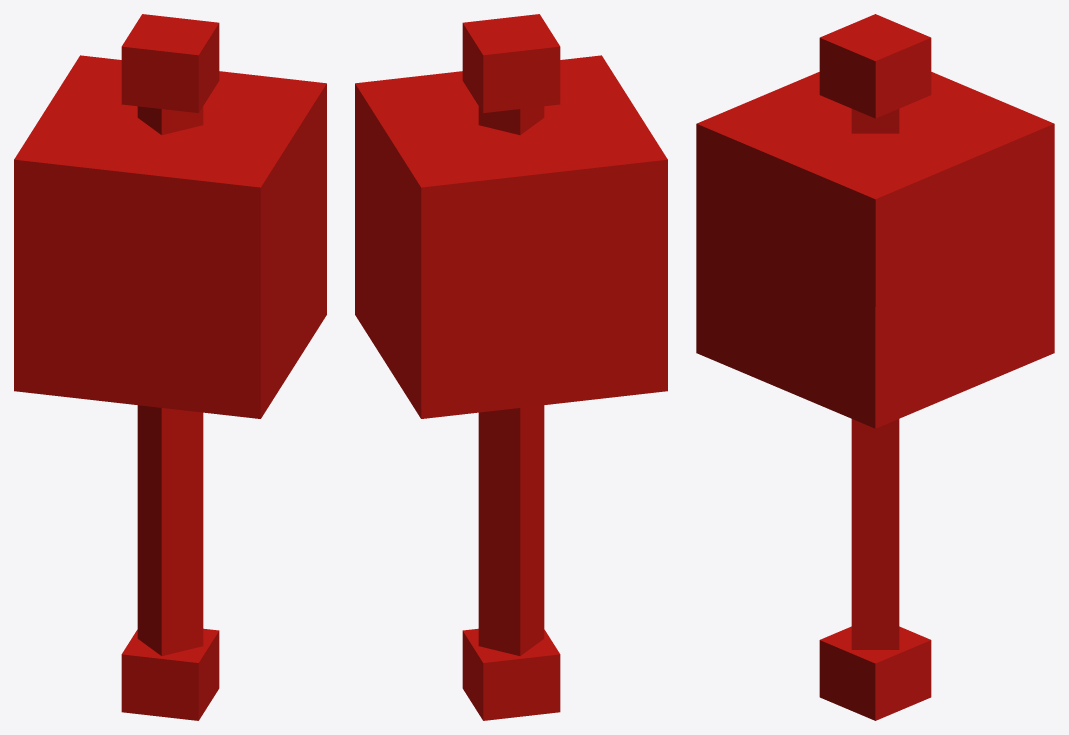
3 renders of one model, left to right at view 1: azimuth 30°, elevation 25°; view 2: azimuth 150°, elevation 25°; view 3: azimuth 270°, elevation 25°, orthographic.
Parts seen in each view (by area): view 1: cube.003, cube.002, cube.001, cube; view 2: cube.003, cube.002, cube.001, cube; view 3: cube.003, cube.002, cube.001, cube.
Boxes of the visible parts, x1=… form: cube.003: x1=14, y1=55, x2=326, y2=418; cube.002: x1=137, y1=106, x2=203, y2=655; cube.001: x1=121, y1=14, x2=219, y2=112; cube: x1=121, y1=628, x2=219, y2=720; cube.003: x1=355, y1=55, x2=667, y2=418; cube.002: x1=478, y1=106, x2=544, y2=655; cube.001: x1=462, y1=14, x2=560, y2=112; cube: x1=462, y1=628, x2=560, y2=720; cube.003: x1=696, y1=72, x2=1054, y2=428; cube.002: x1=851, y1=109, x2=899, y2=649; cube.001: x1=819, y1=14, x2=931, y2=118; cube: x1=819, y1=626, x2=931, y2=720.
Bounding box in the file's own units: 1.41 × 2.87 × 1.41.
